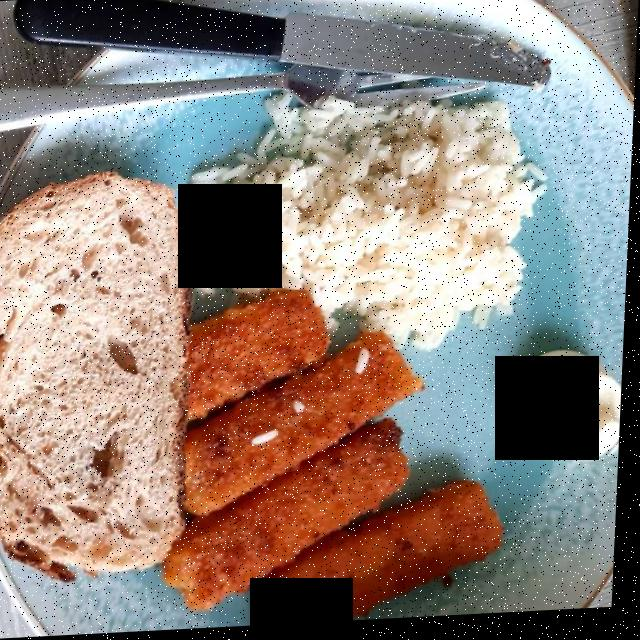bread-wholemeal: (0, 174, 191, 578)
fish-fingers-breaded: (169, 290, 518, 626)
mayonnaise: (515, 356, 621, 463)
rice: (204, 102, 537, 341)
